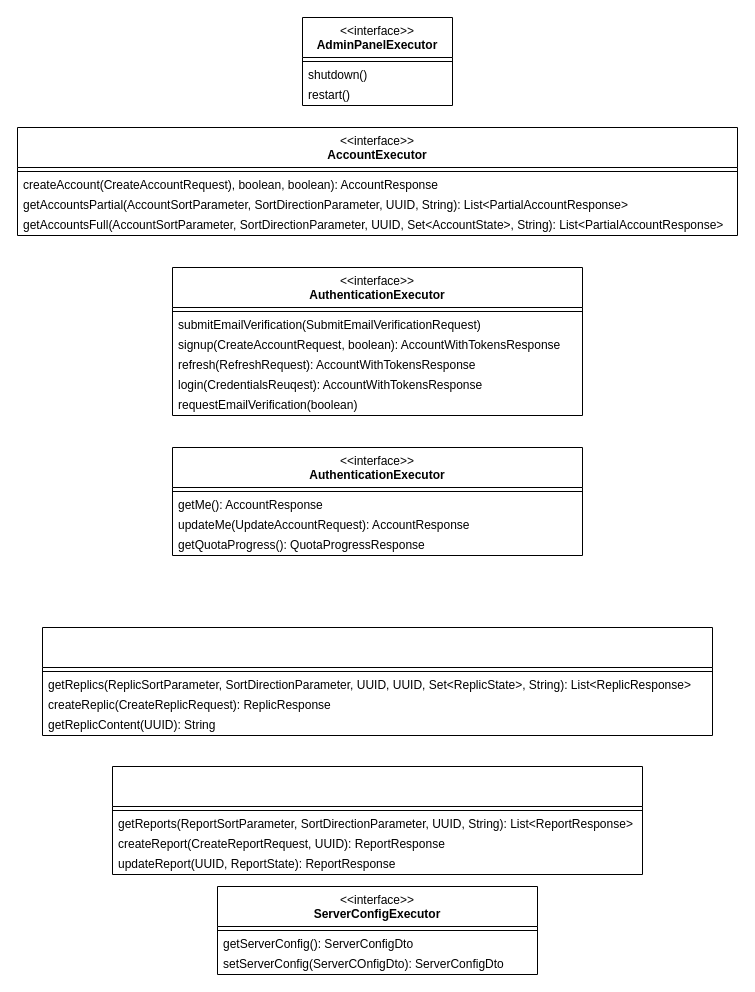
Some shapes in this 755 by 992 pixel diagram are drawn without their labels. Each missing label, with the box of its shape:
<<interface>> ReplicExecutor: (42, 626, 712, 736)
<<interface>> ReportExecutor: (112, 766, 642, 874)
